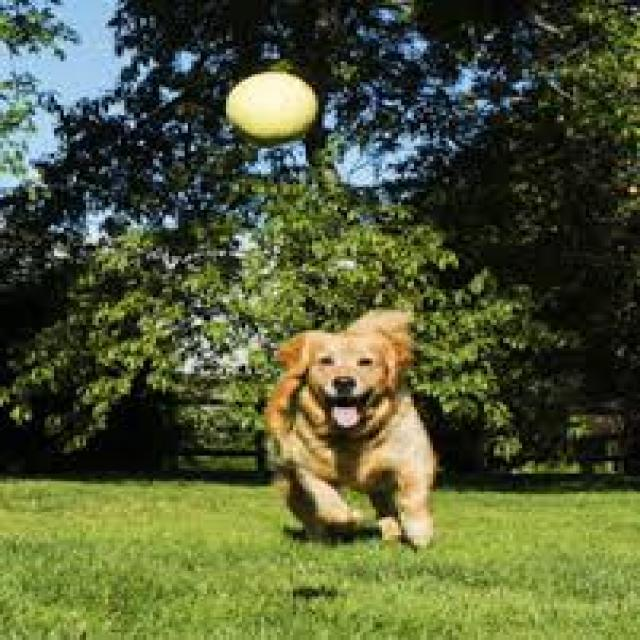Tennis-Ball: (226, 70, 318, 142)
